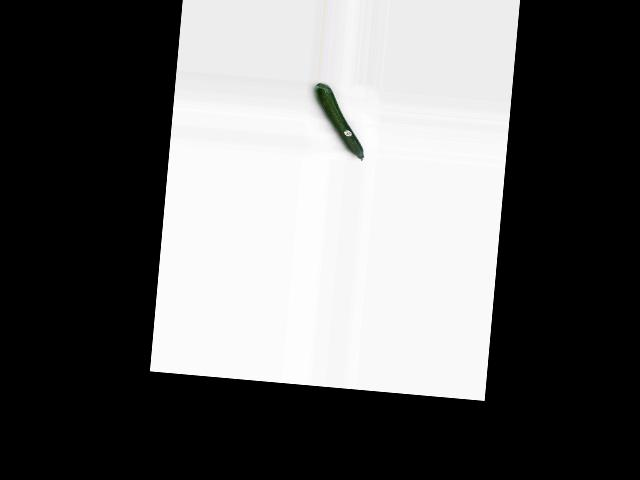cucumber: (309, 83, 369, 161)
